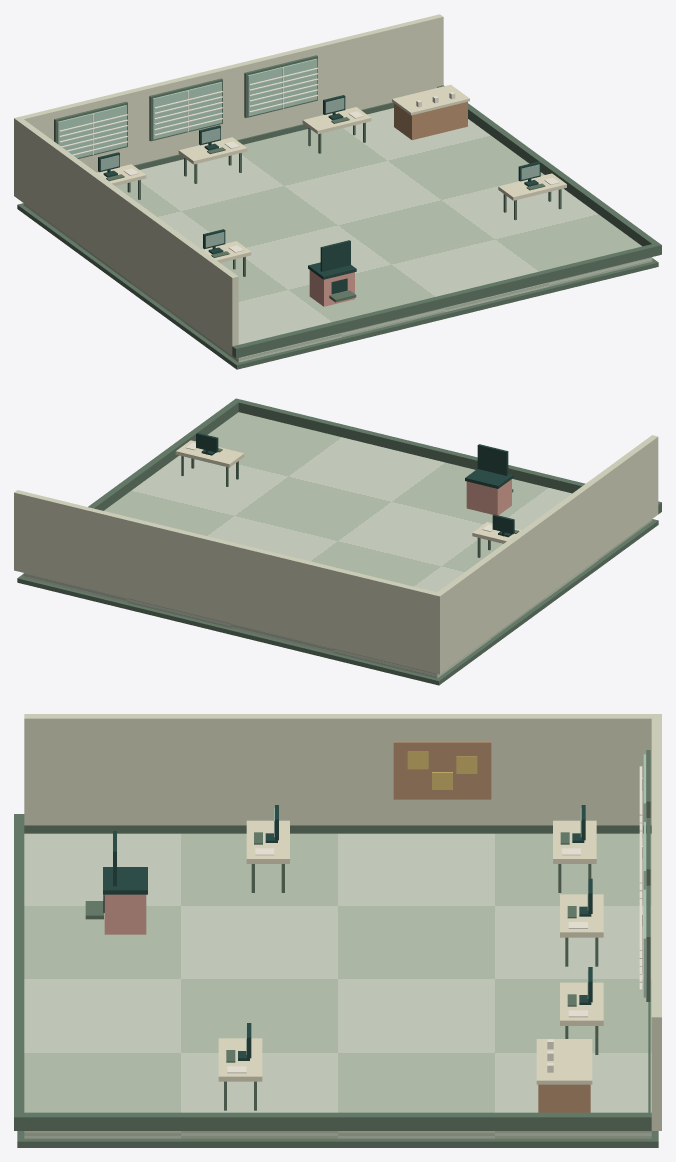
The model's file is office.glb.
3 renders of one model, top to bottom at view 1: azimuth 30°, elevation 25°; view 2: azimuth 150°, elevation 25°; view 3: azimuth 270°, elevation 25°, orthographic. The views are drawn at different scales.
Visible parts, largest first — view 1: Carpet, Back wall, Left wall, Window glass (×3), Front sill, Foundation, Right sill, Desk top (×3), Coffee counter, Coffee counter top, Window frame (×2), Back skirting (+2 smaller); view 2: Carpet, Back wall, Left wall, Foundation, Front sill, Right sill, Dispenser base, Desk top, Dispenser sign, Dispenser lid; view 3: Carpet, Left wall, Right sill, Desk top (×5), Foundation, Left skirting, Noticeboard, Back wall, Front sill, Coffee counter top, Dispenser base, Coffee counter (+1 smaller).
Boxes of the visible parts, box(x1,y1,x2,y2) form: Carpet: box(23, 108, 652, 362); Back wall: box(14, 14, 443, 198); Left wall: box(17, 119, 238, 355); Window glass (×3): box(57, 58, 317, 158); Front sill: box(232, 242, 661, 358); Foundation: box(17, 203, 658, 369); Right sill: box(437, 85, 657, 246); Desk top (×3): box(178, 107, 566, 200); Coffee counter: box(394, 101, 467, 140); Coffee counter top: box(392, 84, 469, 115); Window frame (×2): box(149, 55, 317, 141); Back skirting: box(133, 102, 393, 169); Carpet: box(23, 412, 652, 678); Back wall: box(14, 490, 443, 674); Left wall: box(438, 435, 658, 671); Foundation: box(17, 519, 658, 685); Front sill: box(233, 398, 661, 514); Right sill: box(88, 401, 238, 510); Dispenser base: box(466, 479, 511, 515); Desk top: box(175, 440, 244, 467); Dispenser sign: box(477, 444, 508, 475); Dispenser lid: box(465, 469, 513, 488); Carpet: box(24, 833, 651, 1138); Left wall: box(24, 714, 651, 824); Right sill: box(24, 1112, 651, 1130); Desk top (×5): box(218, 820, 603, 1081); Foundation: box(17, 1131, 658, 1147); Left skirting: box(24, 825, 651, 833); Noticeboard: box(393, 741, 491, 799); Back wall: box(651, 714, 661, 1130); Front sill: box(14, 814, 24, 1130); Coffee counter top: box(536, 1039, 592, 1084); Dispenser base: box(104, 894, 146, 934); Coffee counter: box(538, 1084, 590, 1112).
Bounding box in the file's own units: 20.6 × 4.18 × 18.6.
11 materials, 1 textured.
